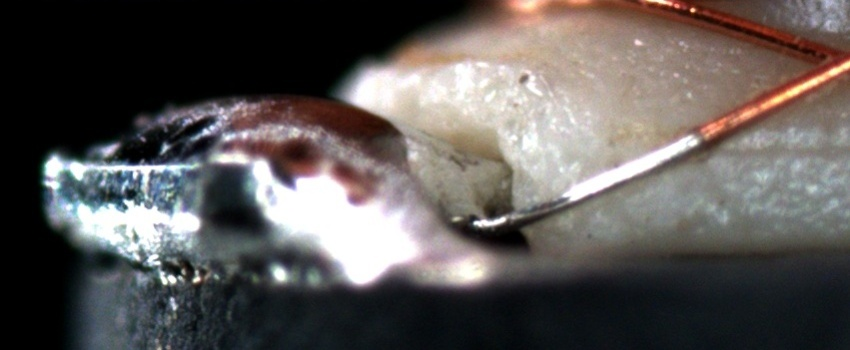CL: (787, 25, 844, 95)
DL: (687, 120, 849, 184)
TS: (468, 128, 708, 232)
